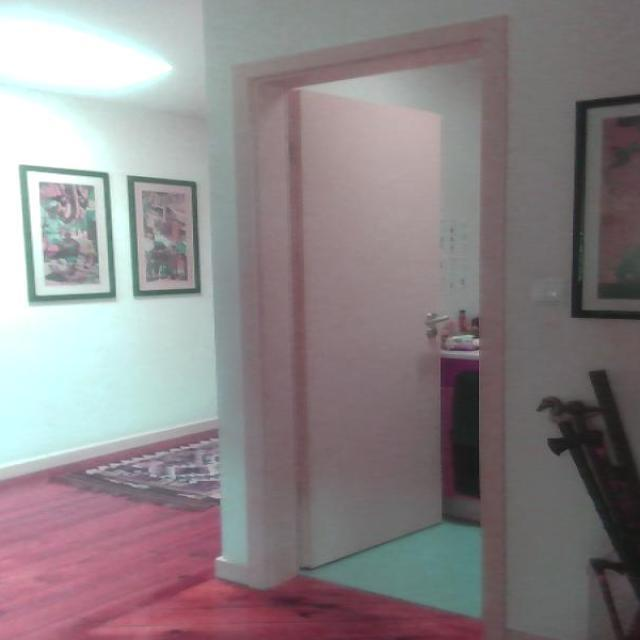door: (292, 87, 445, 569)
